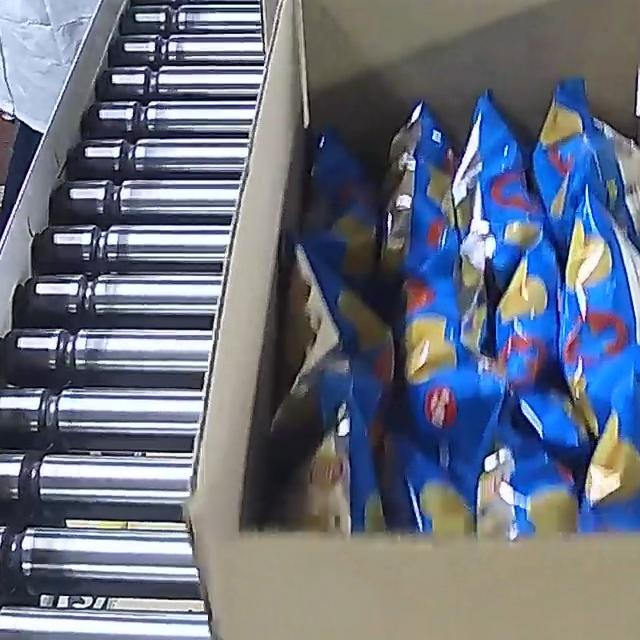paprika: (279, 77, 640, 538)
